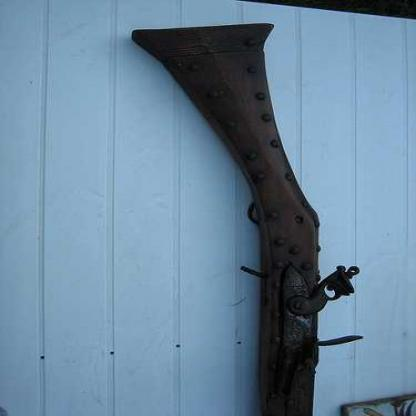rifle: (120, 11, 384, 415)
